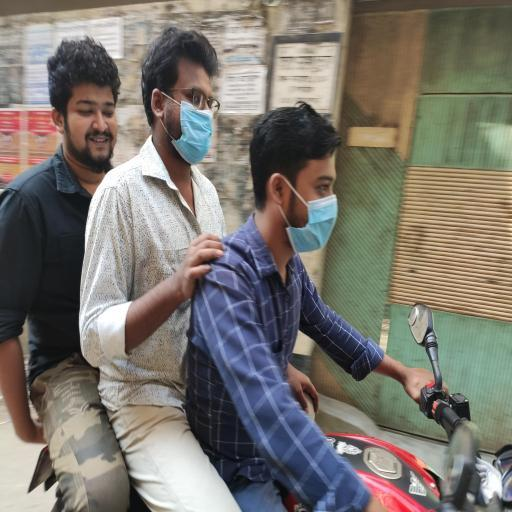no helmet: (236, 67, 357, 309)
triple riding: (2, 10, 512, 504)
